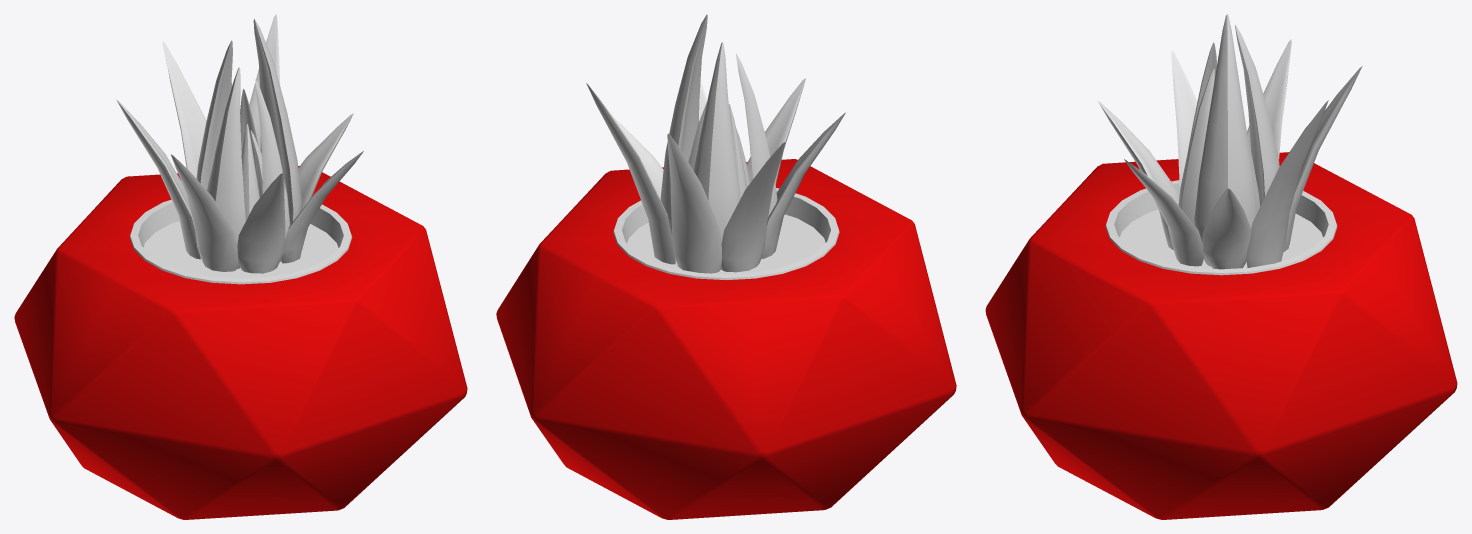
Rendered from Plant Cactus.fbx.
The picture shows the model from 3 angles, left to right: view 1: azimuth 30°, elevation 25°; view 2: azimuth 150°, elevation 25°; view 3: azimuth 270°, elevation 25°; orthographic projection. The views are drawn at different scales.
Visible parts, largest first — view 1: Plant_Cactus; view 2: Plant_Cactus; view 3: Plant_Cactus.
Part boxes in pixels (x1=…): Plant_Cactus: x1=14, y1=14, x2=467, y2=519; Plant_Cactus: x1=496, y1=14, x2=956, y2=519; Plant_Cactus: x1=985, y1=14, x2=1457, y2=519.
Size of the model in its own units: 20 by 20 by 19.
